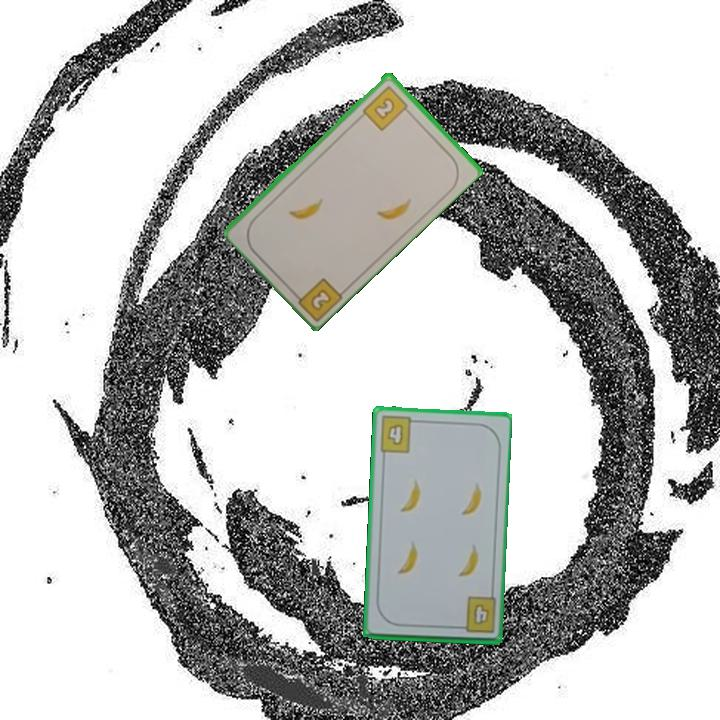2b: (359, 82, 414, 133), (288, 274, 346, 322)
4b: (453, 593, 499, 636), (376, 413, 421, 456)
